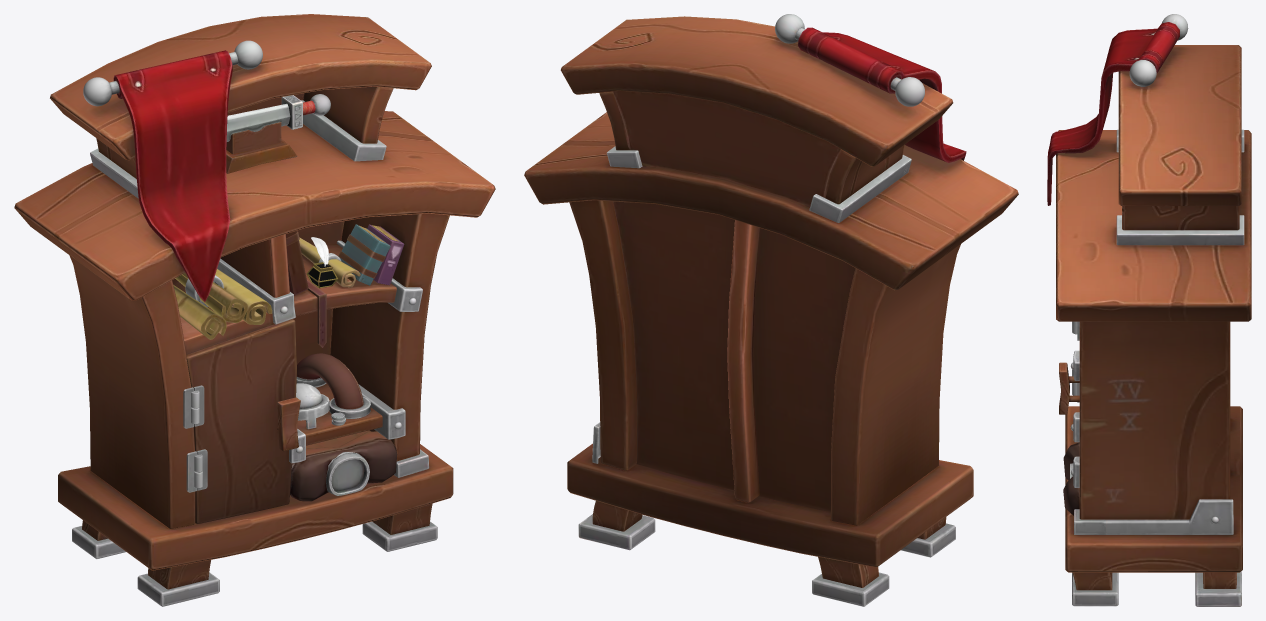
Rendered from PRP_Bookshelf.glb.
3 views of the same model, side by side, from view 1: azimuth 30°, elevation 25°; view 2: azimuth 150°, elevation 25°; view 3: azimuth 270°, elevation 25° (orthographic). The views are drawn at different scales.
Visible parts, largest first — view 1: Flag_low_Bookcase_0, Bookcase_low_Bookcase1_0; view 2: Flag_low_Bookcase_0, Bookcase_low_Bookcase1_0; view 3: Flag_low_Bookcase_0.
Part boxes in pixels (x1,y1,x2,y2): Flag_low_Bookcase_0: [14, 14, 495, 606]; Bookcase_low_Bookcase1_0: [69, 255, 195, 528]; Flag_low_Bookcase_0: [524, 14, 1018, 606]; Bookcase_low_Bookcase1_0: [831, 244, 960, 525]; Flag_low_Bookcase_0: [1047, 14, 1251, 606].
Bounding box in the file's own units: 5.27 × 6.72 × 2.61.
Materials: 3 (3 with a texture image).
